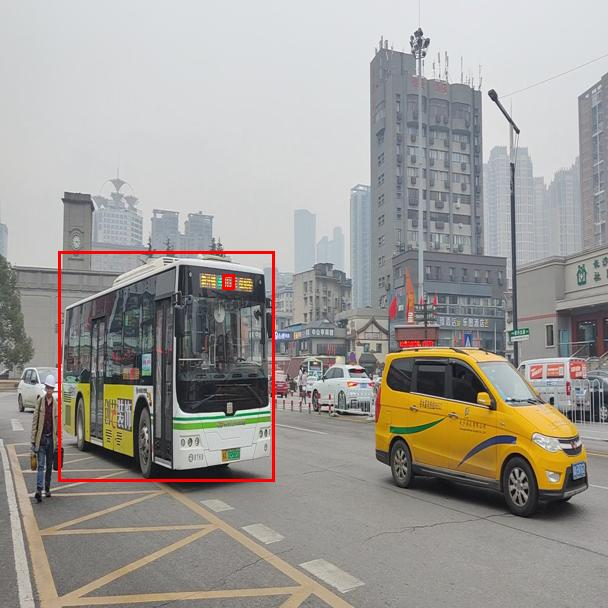bus: (58, 251, 274, 481)
screen: (222, 274, 234, 289)
